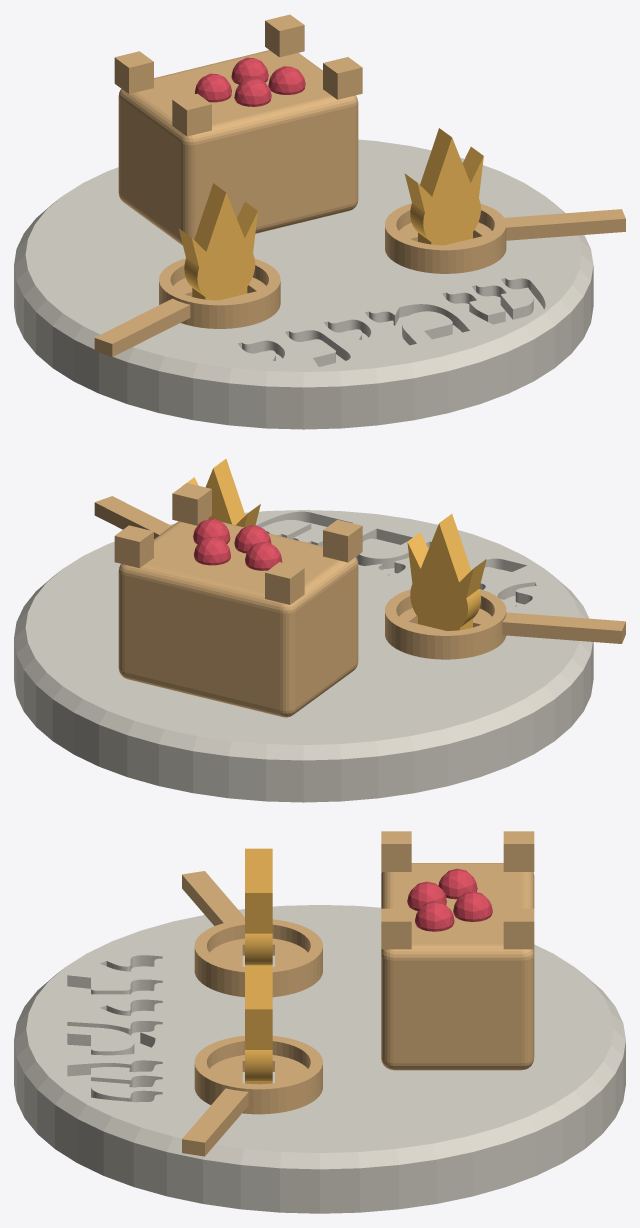
Rendered from shemini.glb.
3 renders of one model, top to bottom at view 1: azimuth 30°, elevation 25°; view 2: azimuth 150°, elevation 25°; view 3: azimuth 270°, elevation 25°, orthographic. The views are drawn at different scales.
Parts seen in each view (by area): view 1: stage, altar, firepan-2, firepan-1, strange-fire-1, strange-fire-2, coals; view 2: stage, altar, firepan-1, strange-fire-1, coals, strange-fire-2, firepan-2; view 3: stage, altar, firepan-2, firepan-1, coals, strange-fire-2, strange-fire-1.
Boxes of the visible parts, bbox=[...] form: stage: bbox=[14, 139, 593, 429]; altar: bbox=[114, 14, 362, 245]; firepan-2: bbox=[385, 203, 625, 273]; firepan-1: bbox=[94, 258, 280, 356]; strange-fire-1: bbox=[178, 183, 257, 300]; strange-fire-2: bbox=[404, 128, 483, 245]; coals: bbox=[195, 57, 305, 106]; stage: bbox=[14, 510, 593, 802]; altar: bbox=[114, 483, 362, 717]; firepan-1: bbox=[385, 589, 625, 659]; strange-fire-1: bbox=[407, 514, 486, 630]; coals: bbox=[193, 519, 282, 570]; strange-fire-2: bbox=[182, 459, 260, 527]; firepan-2: bbox=[94, 496, 171, 538]; stage: bbox=[14, 905, 625, 1213]; altar: bbox=[381, 831, 534, 1070]; firepan-2: bbox=[182, 1035, 322, 1156]; firepan-1: bbox=[182, 871, 322, 997]; coals: bbox=[407, 868, 492, 931]; strange-fire-2: bbox=[245, 965, 272, 1084]; strange-fire-1: bbox=[245, 848, 272, 965].
Size of the model in its own units: 42.04 by 15 by 40.
